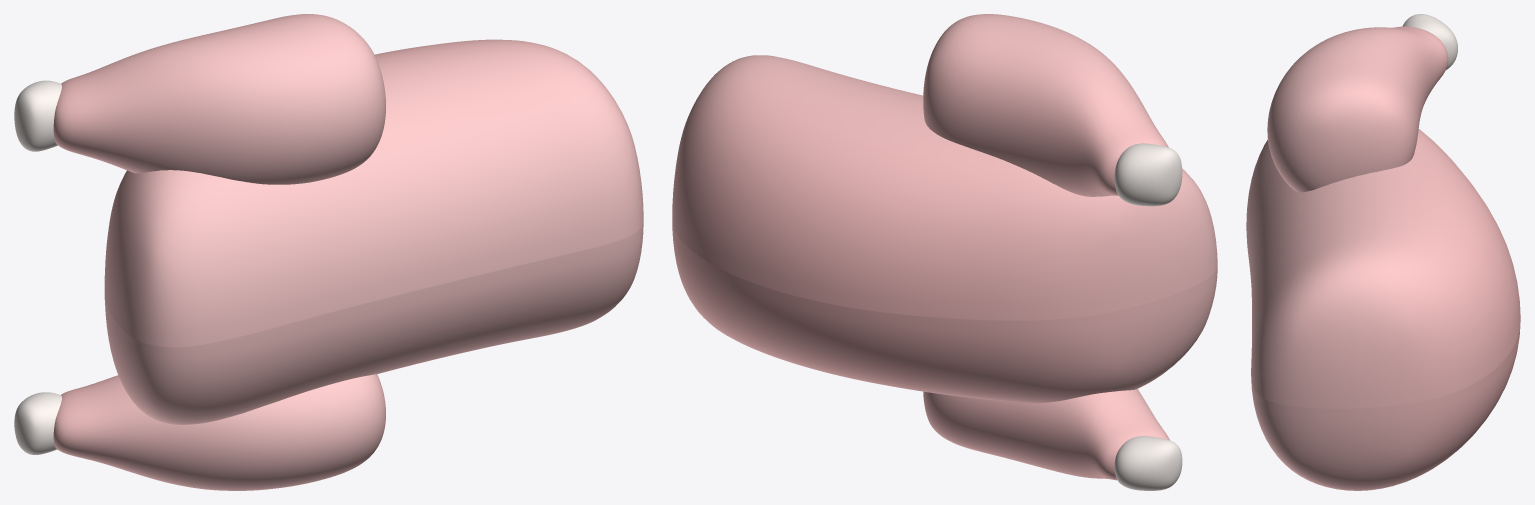
The model's file is HH_RawChicken.fbx.
The picture shows the model from 3 angles, left to right: view 1: azimuth 30°, elevation 25°; view 2: azimuth 150°, elevation 25°; view 3: azimuth 270°, elevation 25°; orthographic projection. The views are drawn at different scales.
Visible parts, largest first — view 1: Top, Bottom; view 2: Top, Bottom; view 3: Top, Bottom.
Part boxes in pixels (bbox=[...]): Top: bbox=[14, 14, 643, 347]; Bottom: bbox=[14, 223, 643, 490]; Top: bbox=[672, 14, 1217, 320]; Bottom: bbox=[672, 222, 1217, 490]; Top: bbox=[1246, 14, 1520, 408]; Bottom: bbox=[1246, 235, 1520, 490].
Bounding box in the file's own units: 120 × 92.16 × 60.
Materials: 1 (1 with a texture image).
